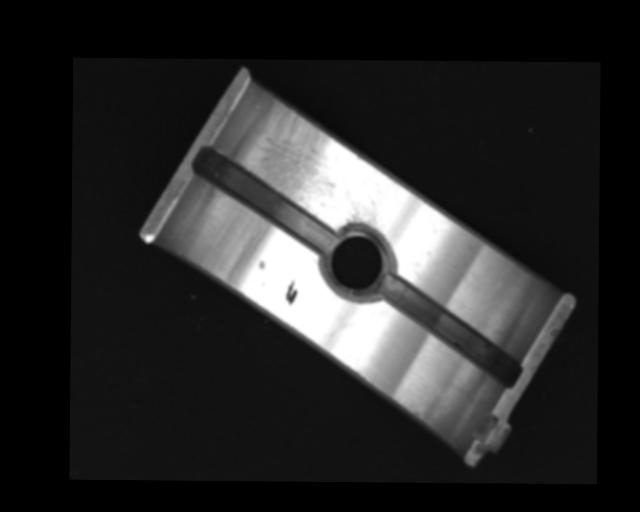blot: (285, 279, 298, 305)
bruise: (258, 259, 265, 270)
gap: (376, 274, 523, 387), (190, 146, 332, 250)
hole: (321, 227, 397, 299)
scratch: (249, 98, 383, 232)
